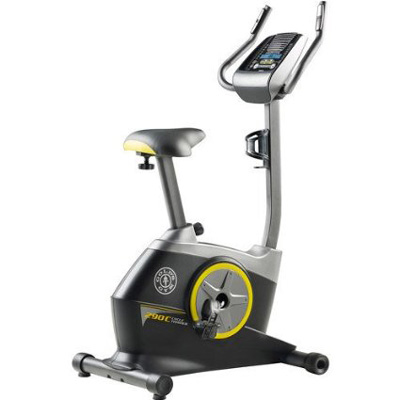gym_bike: (70, 1, 337, 396)
